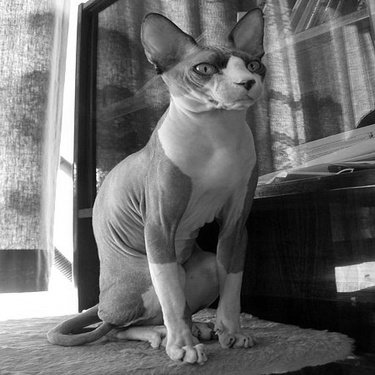cat: (39, 8, 267, 367)
